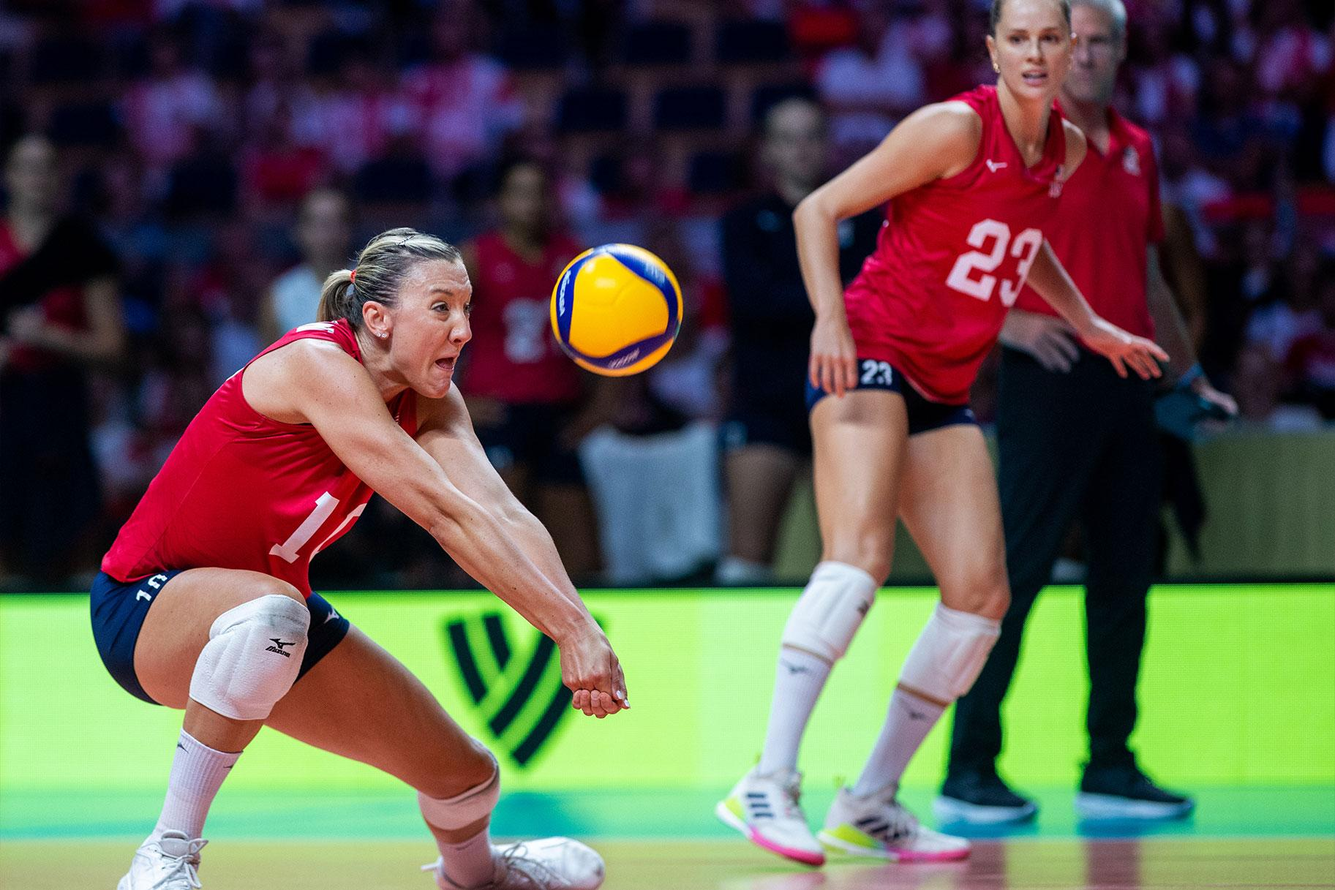ballon_volley: (547, 241, 683, 379)
